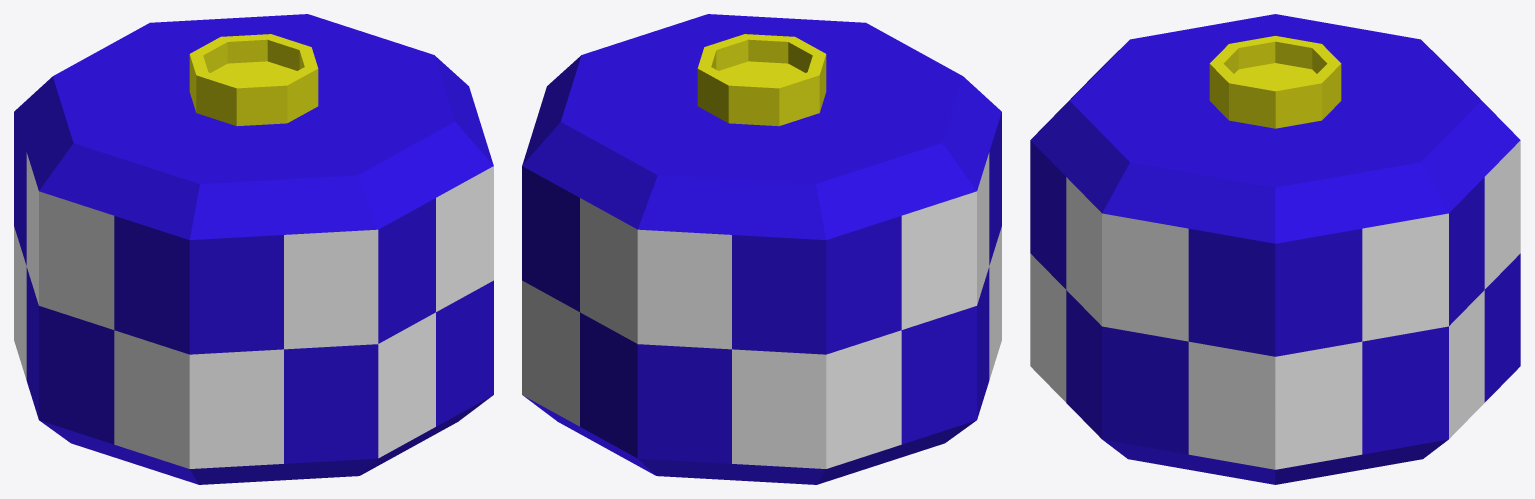
Rendered from christmas decoration.001.fbx.
3 renders of one model, left to right at view 1: azimuth 30°, elevation 25°; view 2: azimuth 150°, elevation 25°; view 3: azimuth 270°, elevation 25°, orthographic.
Visible parts, largest first — view 1: christmas decoration.001; view 2: christmas decoration.001; view 3: christmas decoration.001.
Part boxes in pixels (left/top/right/bottom): christmas decoration.001: left=14, top=14, right=493, bottom=484; christmas decoration.001: left=522, top=14, right=1001, bottom=484; christmas decoration.001: left=1030, top=14, right=1520, bottom=484.
Bounding box in the file's own units: 85.89 × 64.39 × 85.89.
